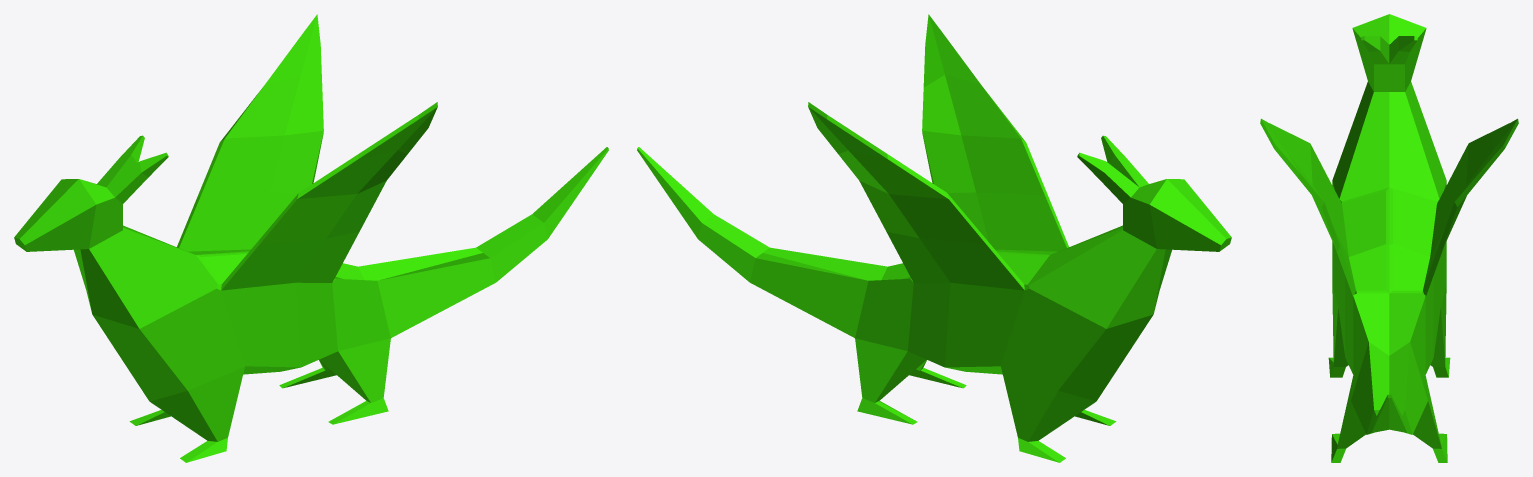
Rendered from Origami Dragon unity.fbx.
3 renders of one model, left to right at view 1: azimuth 30°, elevation 25°; view 2: azimuth 150°, elevation 25°; view 3: azimuth 270°, elevation 25°, orthographic. The views are drawn at different scales.
Parts seen in each view (by area): view 1: Cube; view 2: Cube; view 3: Cube.
Boxes of the visible parts, bbox=[...] form: Cube: bbox=[14, 14, 608, 462]; Cube: bbox=[637, 14, 1231, 462]; Cube: bbox=[1260, 14, 1518, 462].
Size of the model in its own units: 227 by 122 by 80.83.
